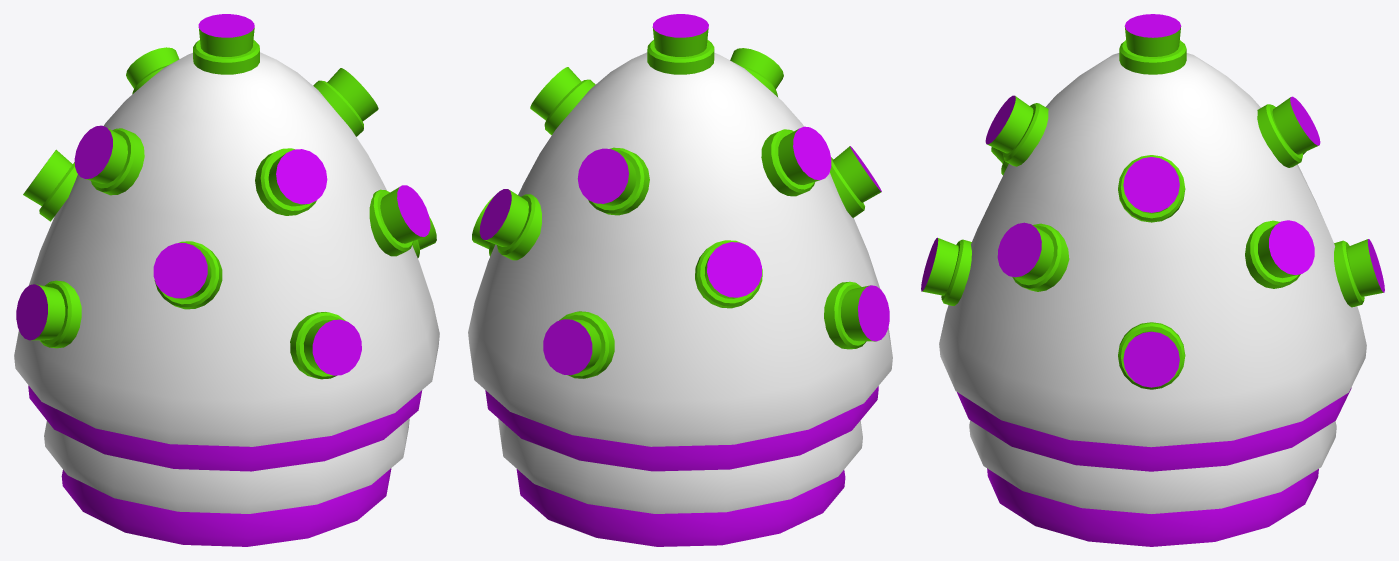
File: head_lv6.fbx
The picture shows the model from 3 angles, left to right: view 1: azimuth 30°, elevation 25°; view 2: azimuth 150°, elevation 25°; view 3: azimuth 270°, elevation 25°; orthographic projection.
Visible parts, largest first — view 1: head_lv6-; view 2: head_lv6-; view 3: head_lv6-.
Part boxes in pixels (<box>): head_lv6-: <box>14,14,439,546</box>; head_lv6-: <box>468,14,892,546</box>; head_lv6-: <box>921,14,1384,546</box>.
Size of the model in its own units: 152 by 163 by 152.
